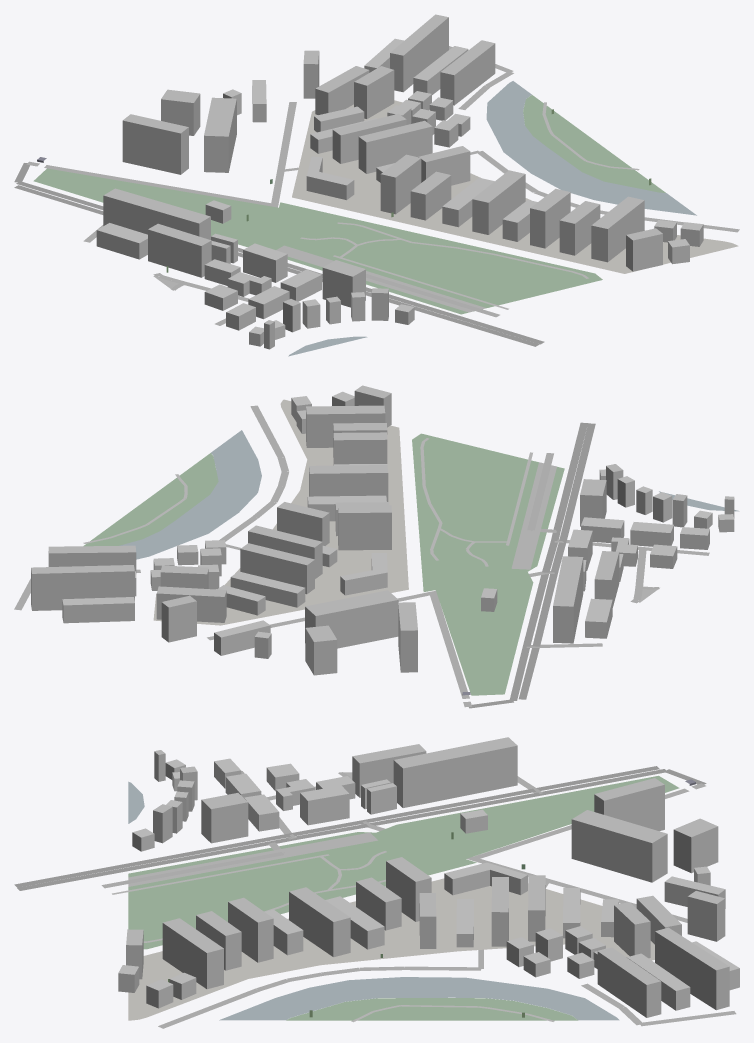
3 views of the same model, one above another, from view 1: azimuth 30°, elevation 25°; view 2: azimuth 150°, elevation 25°; view 3: azimuth 270°, elevation 25° (orthographic). The views are drawn at different scales.
Bounding box in the file's own units: 536 × 42.32 × 615.
